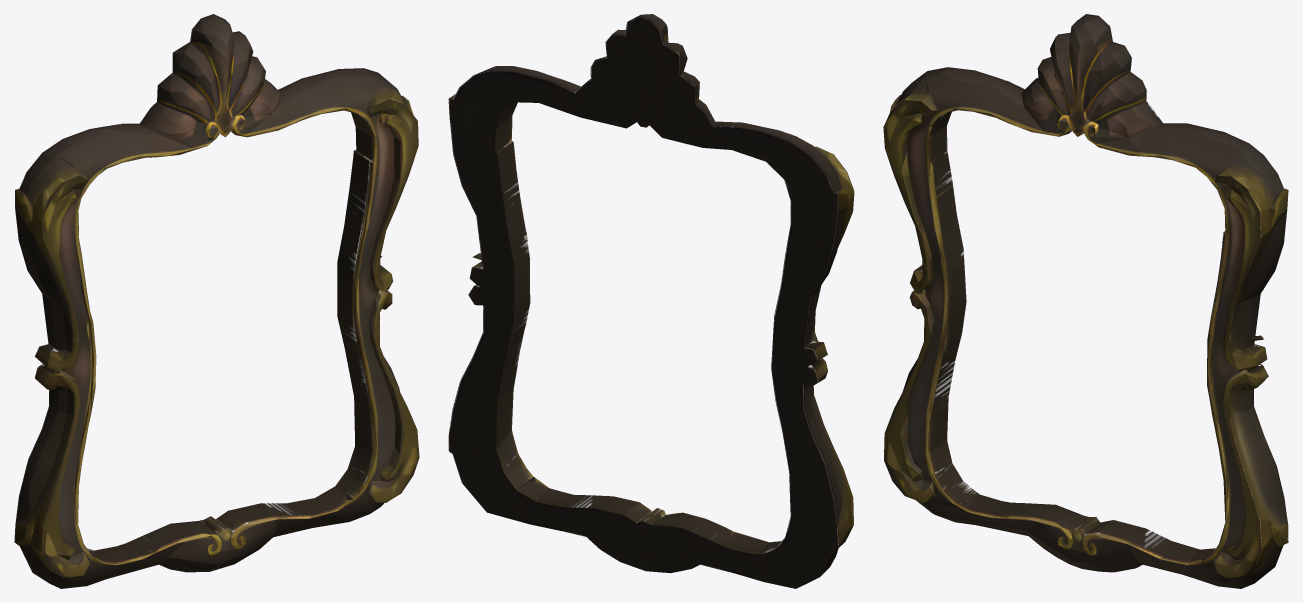
The model's file is mirror03color.obj.
3 views of the same model, side by side, from view 1: azimuth 30°, elevation 25°; view 2: azimuth 150°, elevation 25°; view 3: azimuth 330°, elevation 25° (orthographic).
Parts seen in each view (by area): view 1: model; view 2: model; view 3: model.
Boxes of the visible parts, x1=… form: model: x1=14, y1=14, x2=419, y2=588; model: x1=448, y1=14, x2=854, y2=588; model: x1=883, y1=14, x2=1288, y2=588.
Size of the model in its own units: 2.48 by 3.35 by 0.2481.
Materials: 1 (1 with a texture image).
